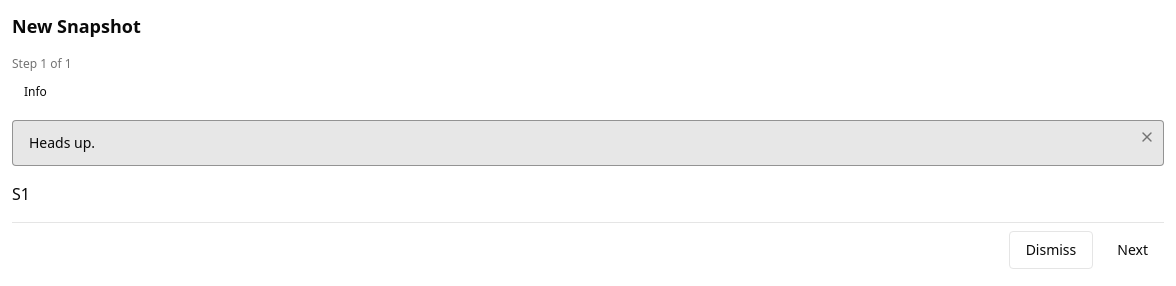
Test case: Wizard banner › dismissible banner can be closed by clicking the X button
expect the text "Heads up." is shown: met, box [29,133,95,152]
Click the button named "Dismiss banner" at (1147, 137), box [1139,129,1155,145]
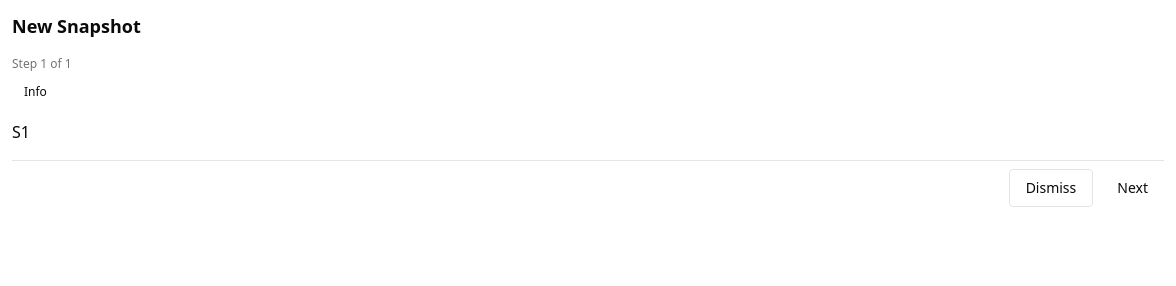
expect the text "Heads up." is gone: met
